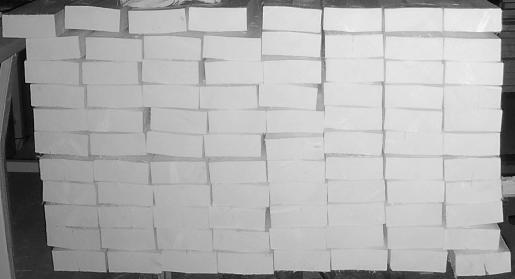Wood-Plank: (452, 234, 512, 276), (264, 6, 322, 32), (260, 84, 316, 110), (128, 8, 186, 33), (65, 6, 120, 32), (147, 132, 201, 158), (188, 7, 246, 31), (325, 8, 383, 32), (263, 32, 321, 56), (266, 136, 324, 160), (445, 8, 502, 32), (151, 110, 207, 134), (447, 202, 503, 226), (328, 225, 384, 249), (446, 157, 502, 181), (327, 59, 385, 82), (447, 180, 502, 204), (386, 8, 443, 31), (326, 34, 383, 57), (387, 61, 444, 84), (447, 62, 504, 85), (446, 86, 503, 109), (143, 61, 199, 84), (326, 107, 382, 130), (446, 109, 502, 132), (445, 133, 501, 156), (213, 185, 269, 208), (200, 86, 258, 108), (387, 37, 444, 59), (264, 60, 321, 82), (325, 84, 382, 106), (209, 111, 266, 133), (327, 158, 384, 180), (209, 162, 266, 184), (161, 252, 218, 274), (391, 250, 448, 272), (52, 249, 106, 272), (446, 38, 502, 60), (204, 37, 260, 59), (144, 37, 200, 59), (86, 38, 142, 60), (87, 85, 143, 107), (387, 132, 443, 154), (205, 135, 261, 157), (268, 161, 324, 183), (151, 162, 207, 184), (329, 181, 385, 203), (329, 204, 385, 226), (387, 158, 443, 180), (205, 61, 258, 84), (386, 87, 444, 108), (24, 62, 79, 84), (82, 62, 137, 84), (143, 86, 198, 108), (87, 110, 142, 132), (90, 134, 145, 156), (98, 184, 153, 206), (388, 181, 443, 203), (387, 204, 442, 226), (214, 230, 269, 252), (46, 226, 98, 249), (26, 37, 80, 59), (34, 134, 88, 156), (39, 160, 93, 182), (94, 162, 148, 184), (155, 185, 209, 207), (155, 207, 209, 229), (107, 252, 161, 274), (268, 111, 324, 132), (389, 228, 445, 249), (275, 251, 331, 272), (332, 250, 388, 271), (30, 85, 83, 107), (43, 182, 96, 204), (44, 206, 97, 228), (271, 184, 326, 205), (272, 207, 327, 228), (218, 253, 273, 274), (212, 208, 264, 230), (2, 16, 56, 37), (326, 134, 382, 154), (270, 229, 326, 249), (446, 230, 502, 250), (33, 109, 86, 130), (157, 230, 212, 250), (99, 208, 153, 228), (386, 111, 442, 130), (101, 230, 155, 249)
